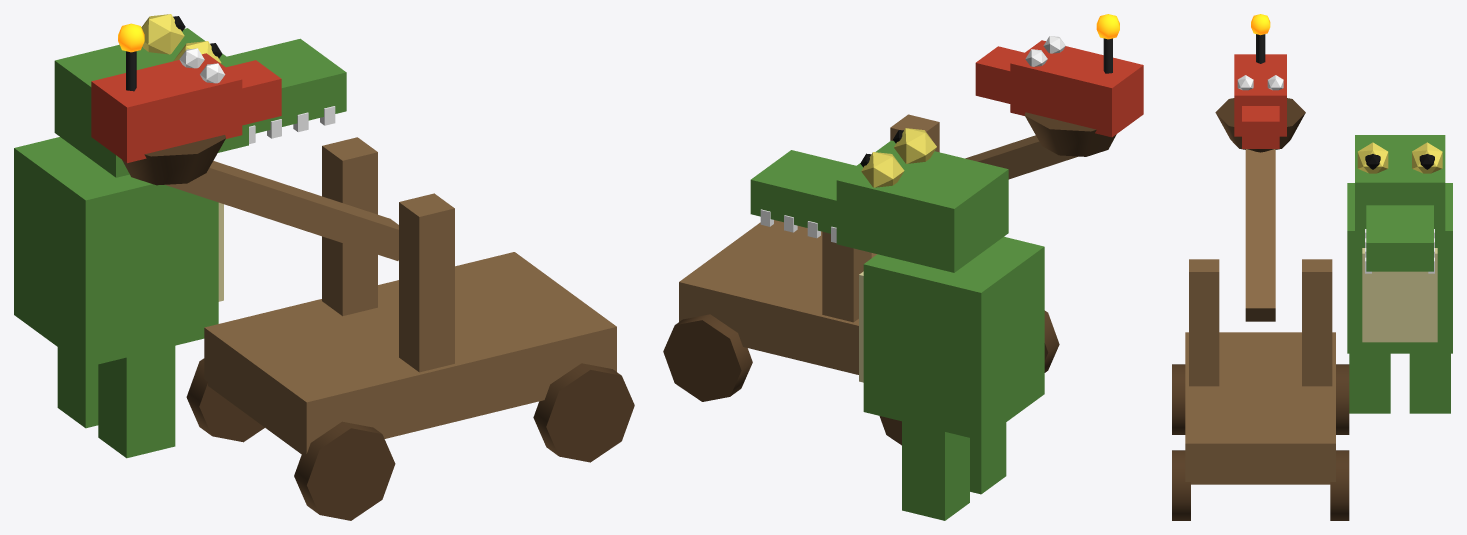
The model's file is level1.glb.
3 views of the same model, side by side, from view 1: azimuth 30°, elevation 25°; view 2: azimuth 150°, elevation 25°; view 3: azimuth 270°, elevation 25° (orthographic). The views are drawn at different scales.
Parts seen in each view (by area): view 1: object 19, object 3, arm, object 25, object 2, object 24, object 21, object 23, object 5, object 6, object 20, object 1 (+1 smaller); view 2: object 3, arm, object 19, object 5, object 1, object 22, object 6, object 24, object 2, object 7, object 9, object 25 (+2 smaller); view 3: object 19, arm, object 5, object 4, object 3, object 6, object 24, object 25, object 2, object 1, object 22, object 23 (+4 smaller).
Part boxes in pixels (x1,y1,x2,y2): object 19: [204, 252, 616, 454]; object 3: [14, 137, 218, 367]; arm: [91, 23, 398, 260]; object 25: [399, 193, 454, 372]; object 2: [98, 346, 175, 458]; object 24: [322, 137, 377, 316]; object 21: [294, 421, 395, 520]; object 23: [533, 363, 634, 462]; object 5: [54, 28, 248, 177]; object 6: [227, 38, 346, 133]; object 20: [186, 358, 264, 442]; object 1: [57, 347, 98, 428]; object 3: [863, 236, 1044, 440]; arm: [965, 14, 1143, 179]; object 19: [679, 220, 876, 374]; object 5: [836, 140, 1008, 272]; object 1: [902, 421, 969, 520]; object 22: [663, 314, 752, 401]; object 6: [750, 150, 856, 233]; object 24: [822, 231, 871, 322]; object 2: [970, 422, 1006, 494]; object 7: [861, 152, 904, 187]; object 9: [894, 128, 936, 163]; object 25: [890, 114, 939, 152]; object 19: [1185, 332, 1335, 484]; arm: [1215, 14, 1305, 321]; object 5: [1355, 135, 1445, 235]; object 4: [1362, 248, 1437, 342]; object 3: [1347, 183, 1452, 353]; object 6: [1366, 205, 1433, 271]; object 24: [1302, 259, 1332, 386]; object 25: [1189, 259, 1219, 386]; object 2: [1349, 353, 1390, 413]; object 1: [1409, 353, 1450, 413]; object 22: [1330, 450, 1349, 520]; object 23: [1172, 450, 1190, 520].
Size of the model in its own units: 1.05 by 1.06 by 0.745.
